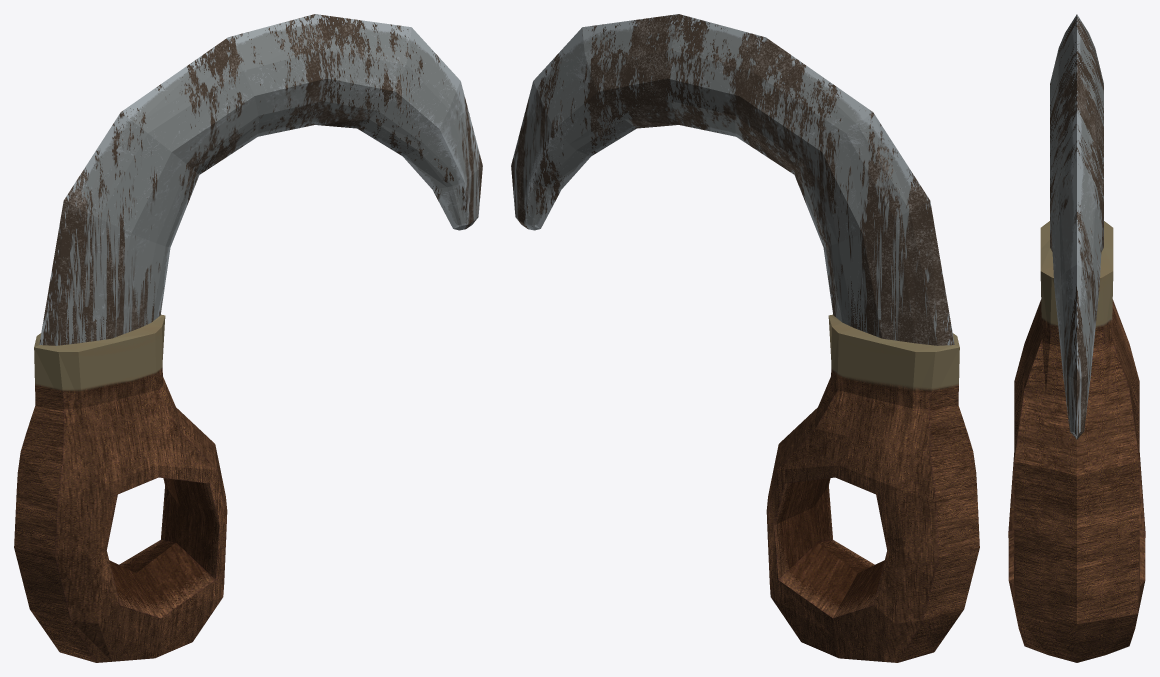
The model's file is Bent Dagger.fbx.
The picture shows the model from 3 angles, left to right: view 1: azimuth 30°, elevation 25°; view 2: azimuth 150°, elevation 25°; view 3: azimuth 270°, elevation 25°; orthographic projection. The views are drawn at different scales.
Parts seen in each view (by area): view 1: Bent_Dagger; view 2: Bent_Dagger; view 3: Bent_Dagger.
Boxes of the visible parts, x1,y1,x2,y2 form: Bent_Dagger: [14, 14, 482, 662]; Bent_Dagger: [511, 14, 979, 662]; Bent_Dagger: [1008, 14, 1145, 662].
Bounding box in the file's own units: 108 × 128 × 23.84.
